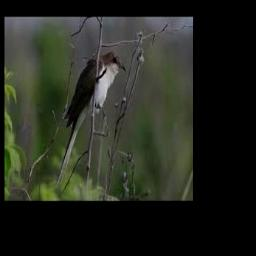Cuckoo: (56, 50, 126, 188)
